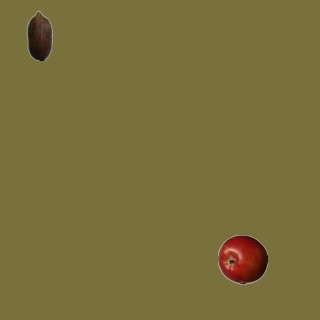Apple Braeburn: (217, 234, 267, 284)
Nut Pecan: (14, 10, 64, 60)
